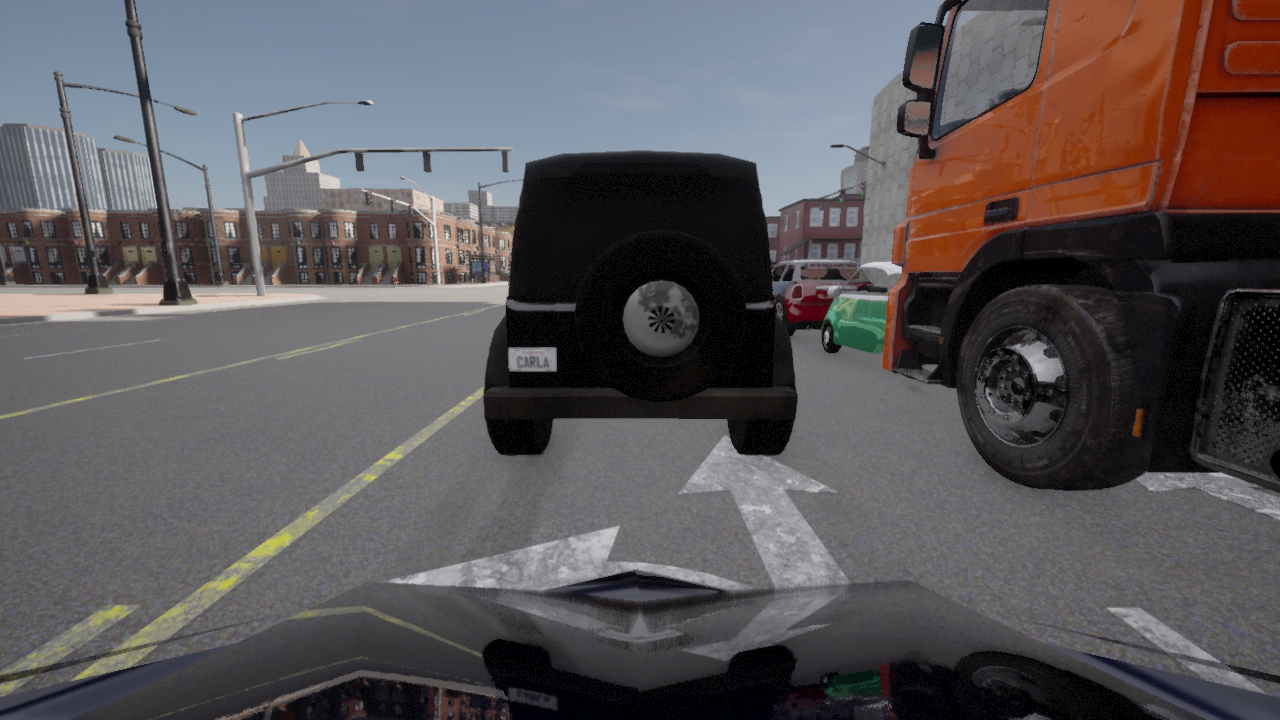cyclist: (882, 0, 1279, 491), (0, 569, 1279, 719), (484, 151, 797, 454), (821, 261, 901, 373), (772, 260, 859, 336), (771, 261, 776, 269)
